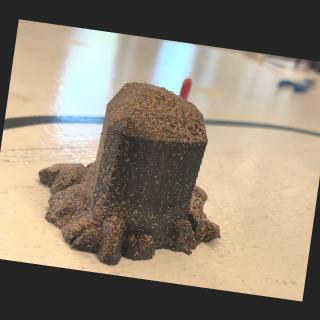teletubby: (179, 78, 191, 99)
